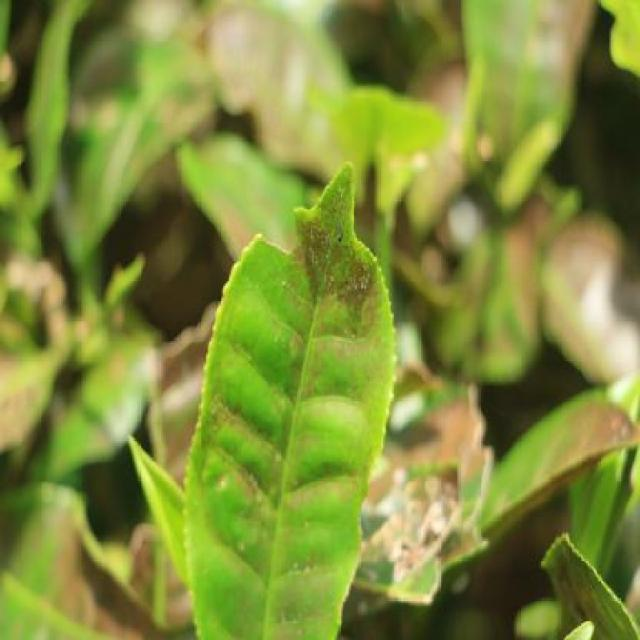Red Spider infested tea leaf: (174, 140, 441, 640)
